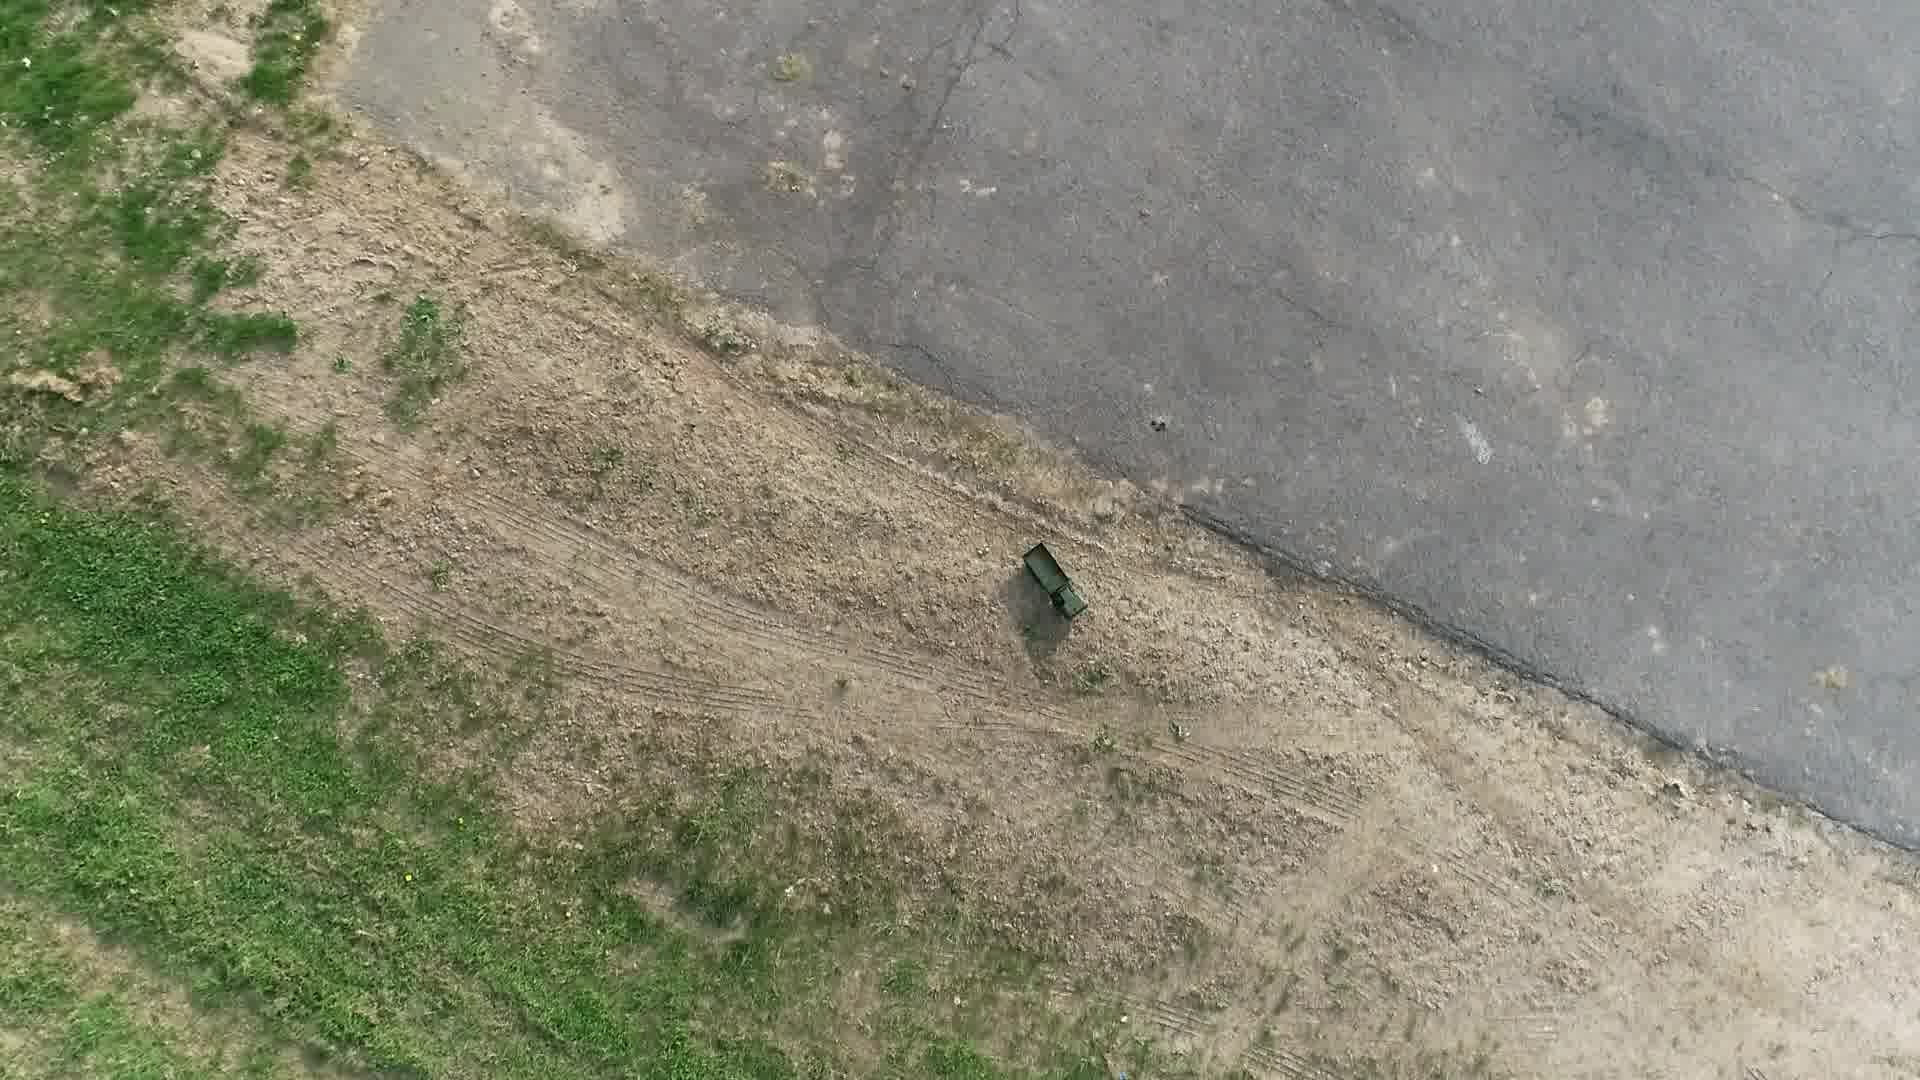transporter9: (1011, 541, 1093, 632)
